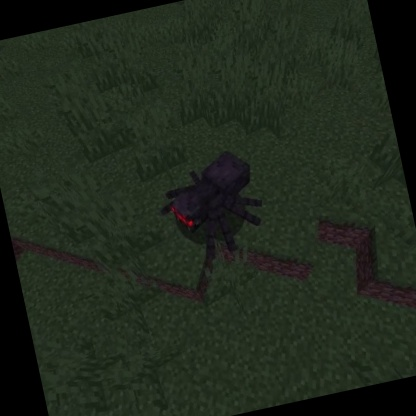spider: (146, 141, 276, 272)
